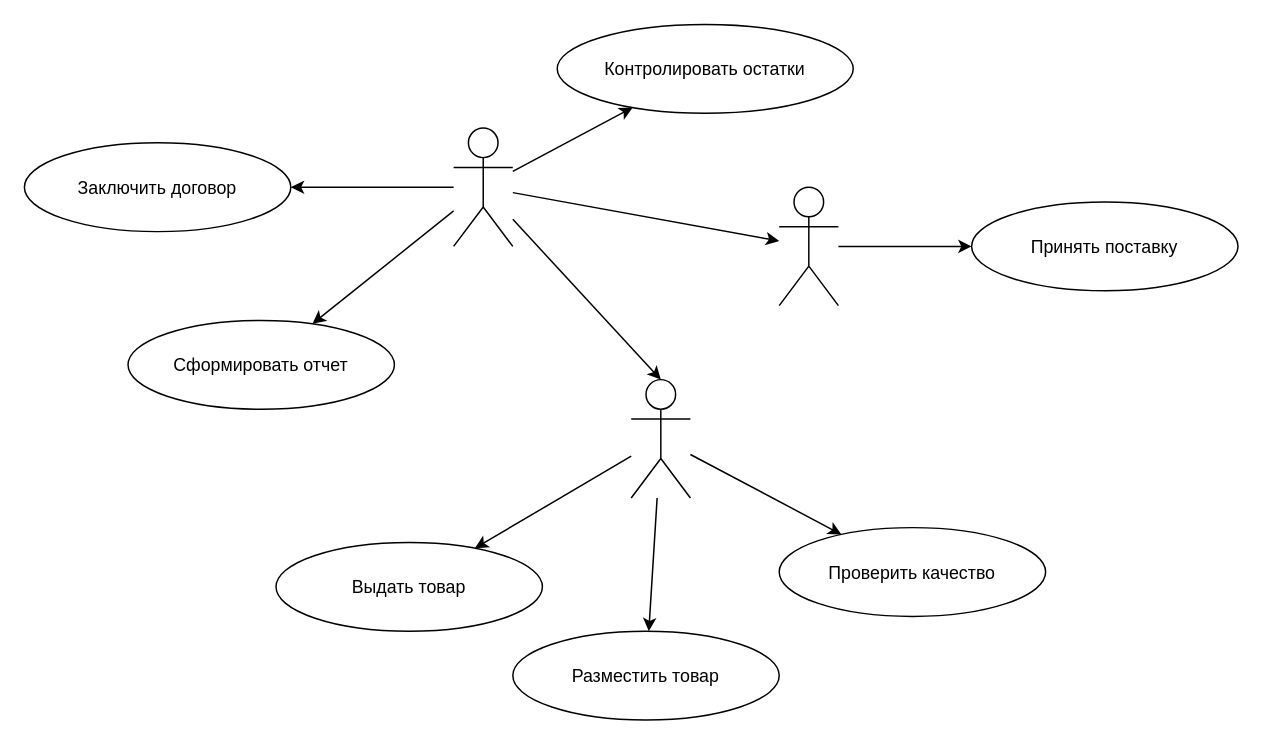
Image size: 1262x744. Some labels were removed from this diagram. Here are the shapes that lost their labels. From the top down, the centre of each, then its label:
At point (482, 186): "Менеджер".
At point (808, 246): "Поставщик".
At point (660, 438): "Сотрудник склада".
